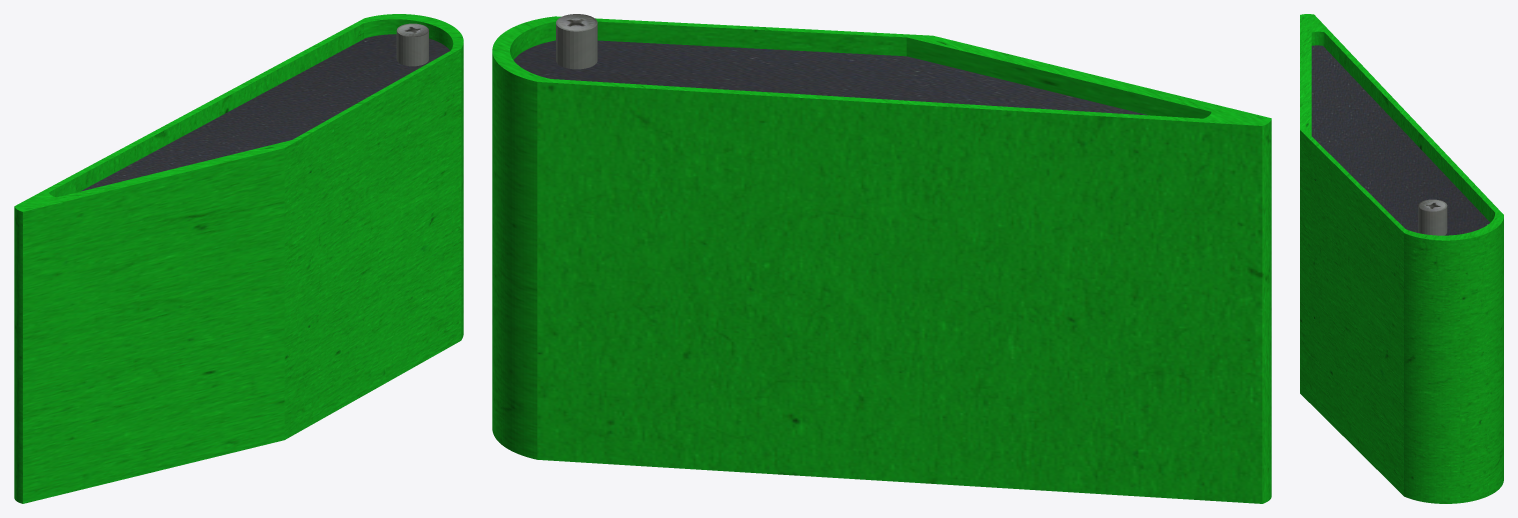
File: RightFlipper.obj
3 views of the same model, side by side, from view 1: azimuth 30°, elevation 25°; view 2: azimuth 150°, elevation 25°; view 3: azimuth 270°, elevation 25° (orthographic). The views are drawn at different scales.
Visible parts, largest first — view 1: Cube.000_Cube.011, FlipperIn.001_Cube.007, Cylinder.003_Cylinder.007; view 2: Cube.000_Cube.011, FlipperIn.001_Cube.007, Cylinder.003_Cylinder.007; view 3: Cube.000_Cube.011, FlipperIn.001_Cube.007, Cylinder.003_Cylinder.007.
Part boxes in pixels (x1,y1,x2,y2): Cube.000_Cube.011: (14, 14, 463, 503); FlipperIn.001_Cube.007: (80, 34, 449, 191); Cylinder.003_Cylinder.007: (396, 23, 428, 66); Cube.000_Cube.011: (492, 16, 1271, 503); FlipperIn.001_Cube.007: (513, 40, 1147, 115); Cylinder.003_Cylinder.007: (556, 14, 597, 69); Cube.000_Cube.011: (1300, 14, 1503, 503); FlipperIn.001_Cube.007: (1311, 45, 1490, 235); Cylinder.003_Cylinder.007: (1418, 199, 1447, 235).
Size of the model in its own units: 0.9223 by 0.525 by 0.3509.
4 materials, 4 textured.
